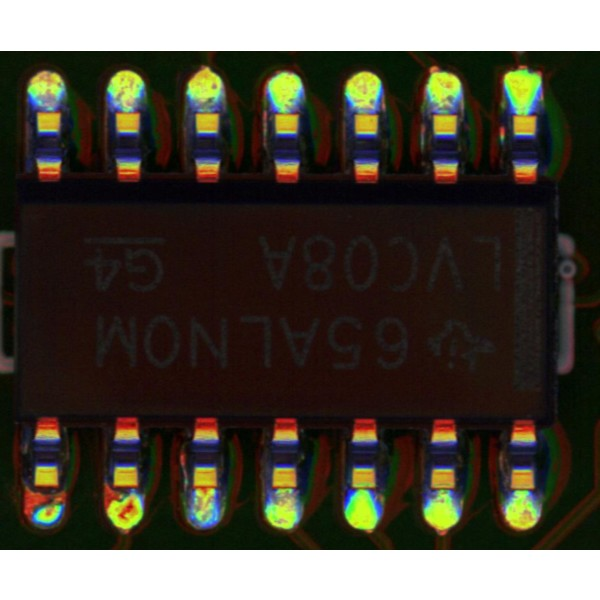Bad_podu: (194, 478, 215, 500)
